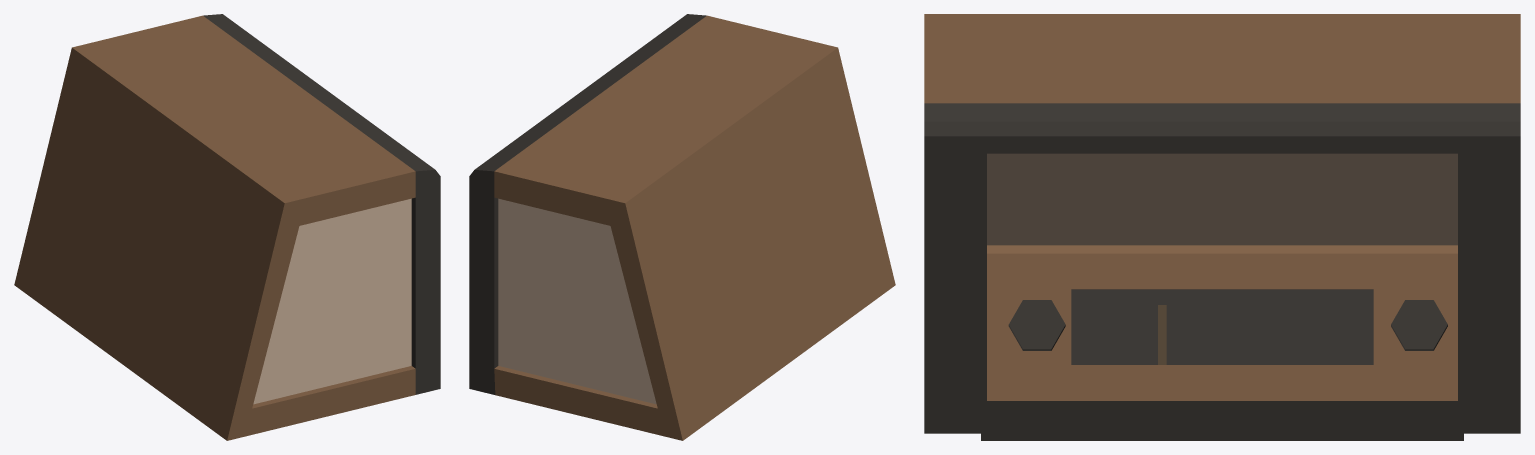
Rendered from SM_radio_02.glb.
3 views of the same model, side by side, from view 1: azimuth 30°, elevation 25°; view 2: azimuth 150°, elevation 25°; view 3: azimuth 270°, elevation 25° (orthographic). The views are drawn at different scales.
Parts seen in each view (by area): view 1: SM_radio_02; view 2: SM_radio_02; view 3: SM_radio_02.
Part boxes in pixels (bbox=[...]): SM_radio_02: bbox=[14, 14, 440, 440]; SM_radio_02: bbox=[469, 14, 895, 440]; SM_radio_02: bbox=[924, 14, 1520, 440].
Size of the model in its own units: 0.2901 by 0.3051 by 0.4938.
1 material, 1 textured.
